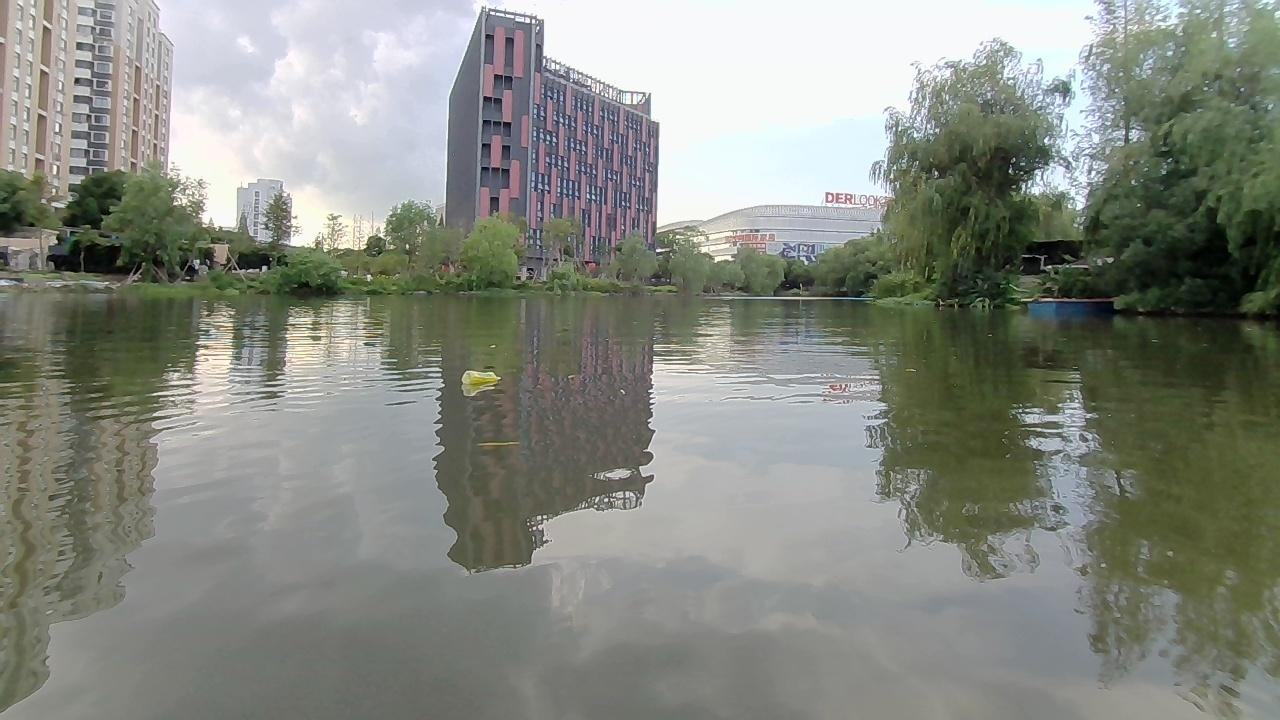bottle: (461, 367, 504, 388)
